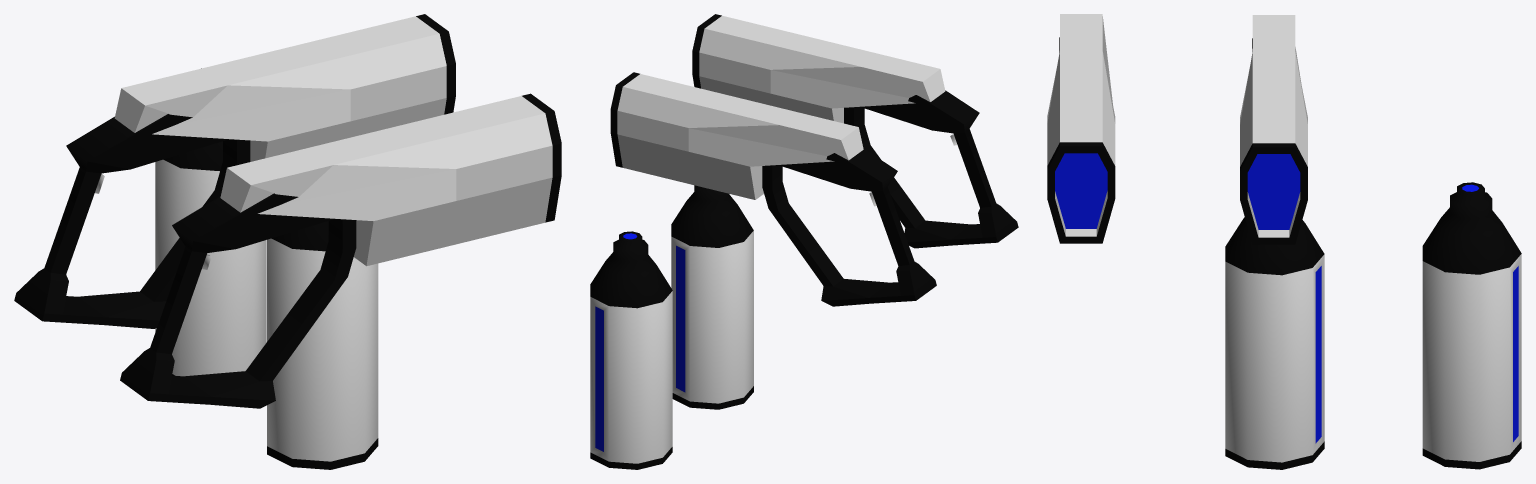
File: Watergun (1).fbx
3 views of the same model, side by side, from view 1: azimuth 30°, elevation 25°; view 2: azimuth 150°, elevation 25°; view 3: azimuth 270°, elevation 25° (orthographic). The views are drawn at different scales.
Parts seen in each view (by area): view 1: Cube.002, Cube.001, Cylinder.001; view 2: Cube.002, Cube.001, Cylinder.001; view 3: Cube.002, Cylinder.001, Cube.001.
Boxes of the visible parts, x1,y1,x2,y2 form: Cube.002: [14, 14, 455, 469]; Cube.001: [120, 93, 561, 408]; Cylinder.001: [155, 68, 266, 376]; Cube.002: [610, 72, 936, 409]; Cube.001: [692, 14, 1018, 248]; Cylinder.001: [590, 231, 672, 469]; Cube.002: [1225, 15, 1324, 469]; Cylinder.001: [1422, 182, 1521, 469]; Cube.001: [1047, 14, 1115, 243].
Size of the model in its own units: 66.14 by 60.82 by 74.28.
